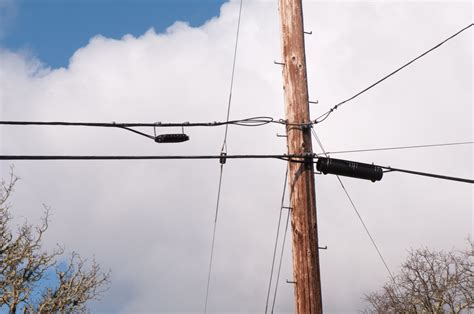pole: (238, 2, 365, 314)
